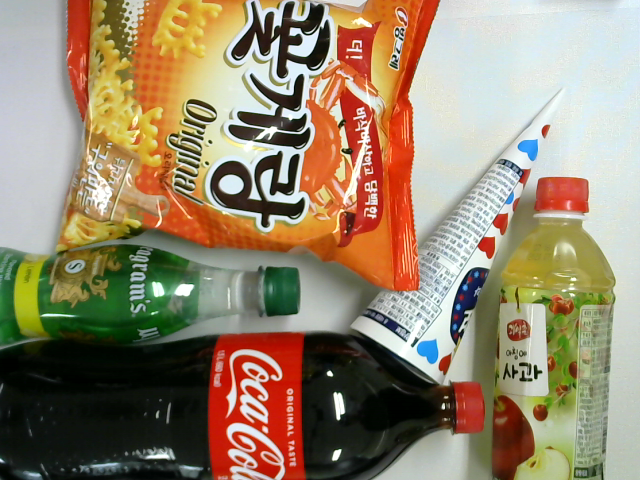Bravo_Cone_(Banila)_CVS: (347, 81, 578, 388)
Coca_Cola_1.5L: (2, 326, 499, 480)
Crabrang: (52, 1, 447, 304)
Morning_Apple_500ml: (484, 163, 620, 480)
Seagram_Lemon_Carbonated_Water: (1, 236, 313, 352)
